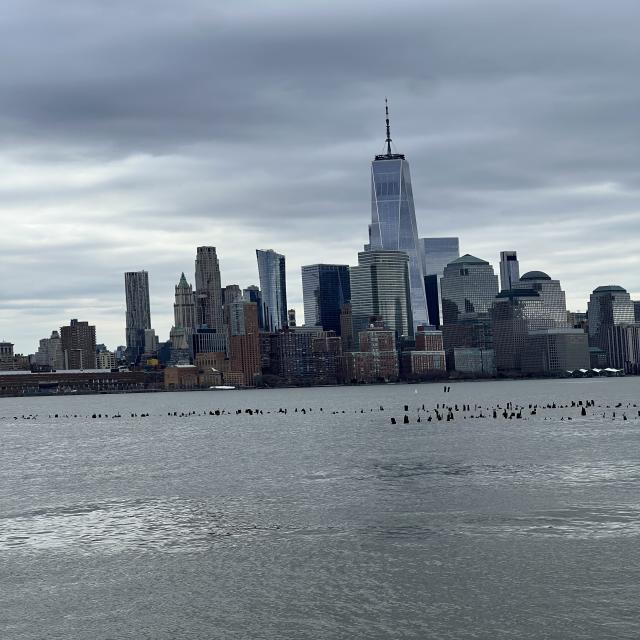WTC: (368, 97, 418, 246)
